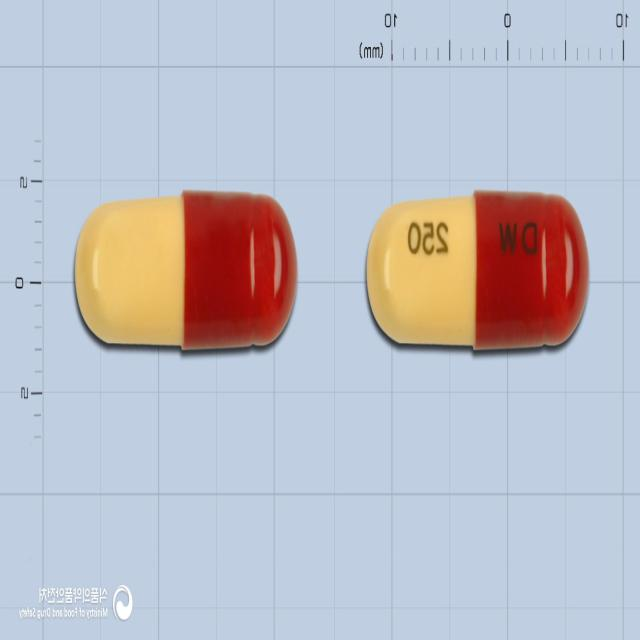Ciprofloxacin HCl Tab- Unimed: (365, 188, 590, 351), (73, 190, 297, 353)
